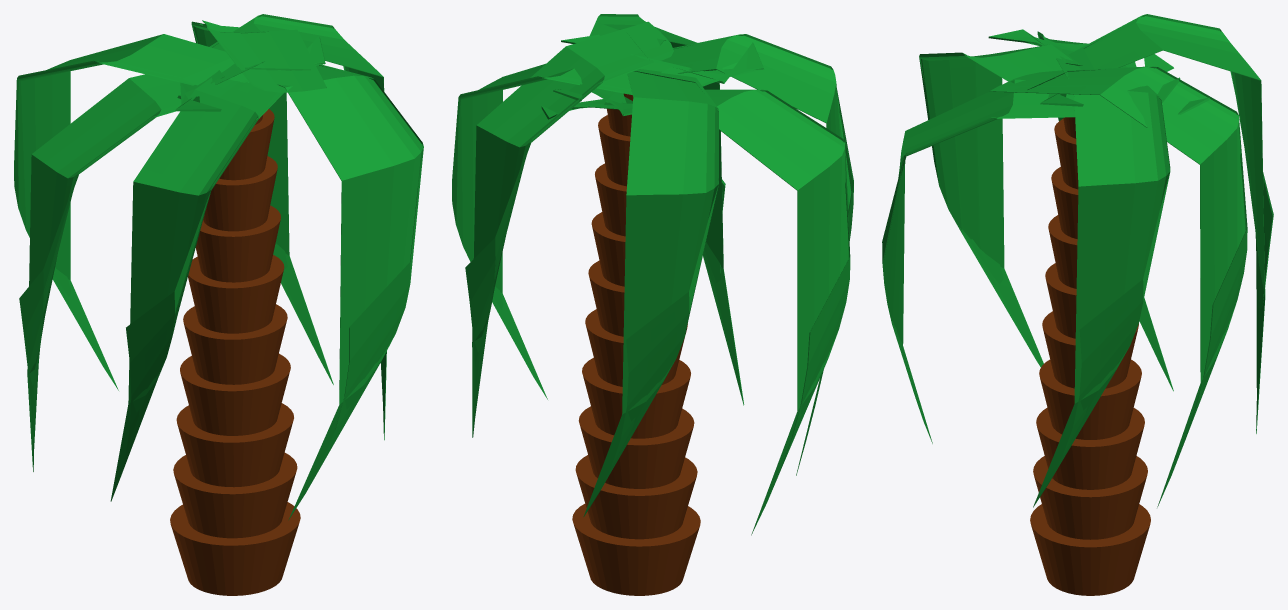
The model's file is Palmtree.fbx.
3 renders of one model, left to right at view 1: azimuth 30°, elevation 25°; view 2: azimuth 150°, elevation 25°; view 3: azimuth 270°, elevation 25°, orthographic. The views are drawn at different scales.
Parts seen in each view (by area): view 1: Null_1; view 2: Null_1; view 3: Null_1.
Boxes of the visible parts, x1=… form: Null_1: x1=14, y1=14, x2=423, y2=595; Null_1: x1=452, y1=14, x2=853, y2=595; Null_1: x1=882, y1=14, x2=1273, y2=595.
Size of the model in its own units: 125 by 172 by 119.
